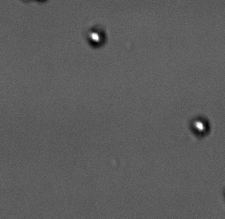Living Cell: (86, 25, 105, 48), (189, 116, 210, 136)
